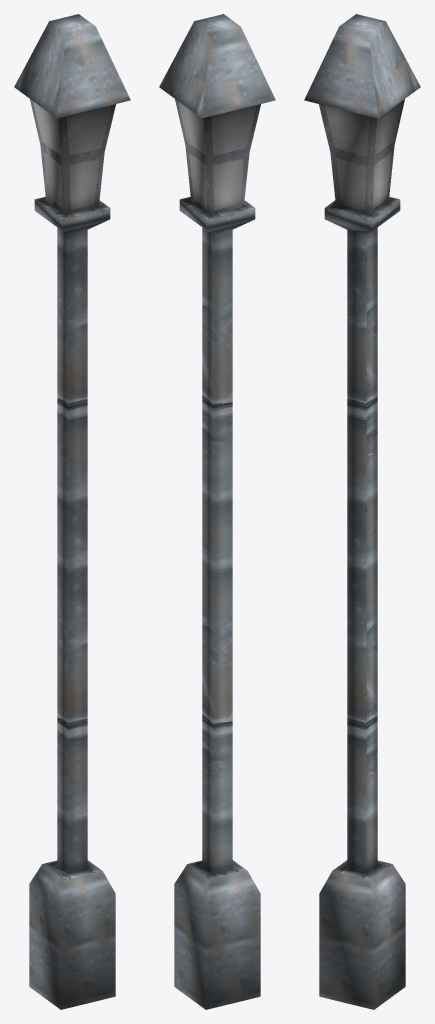
File: Lamp.fbx
3 renders of one model, left to right at view 1: azimuth 30°, elevation 25°; view 2: azimuth 210°, elevation 25°; view 3: azimuth 330°, elevation 25°, orthographic.
Parts seen in each view (by area): view 1: Cube_049; view 2: Cube_049; view 3: Cube_049.
Boxes of the visible parts, box(x1,y1,x2,y2) form: Cube_049: box(14, 14, 130, 1009); Cube_049: box(159, 14, 275, 1009); Cube_049: box(304, 14, 420, 1009).
Size of the model in its own units: 0.4697 by 5.86 by 0.4697.
